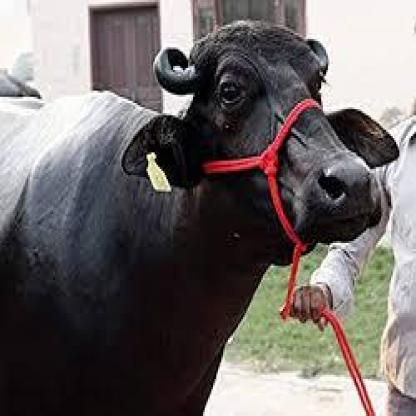cow: (0, 20, 389, 416)
